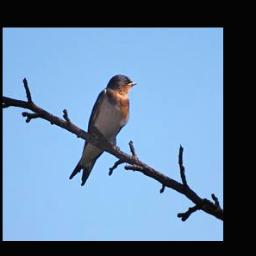Swallow: (69, 73, 137, 186)
